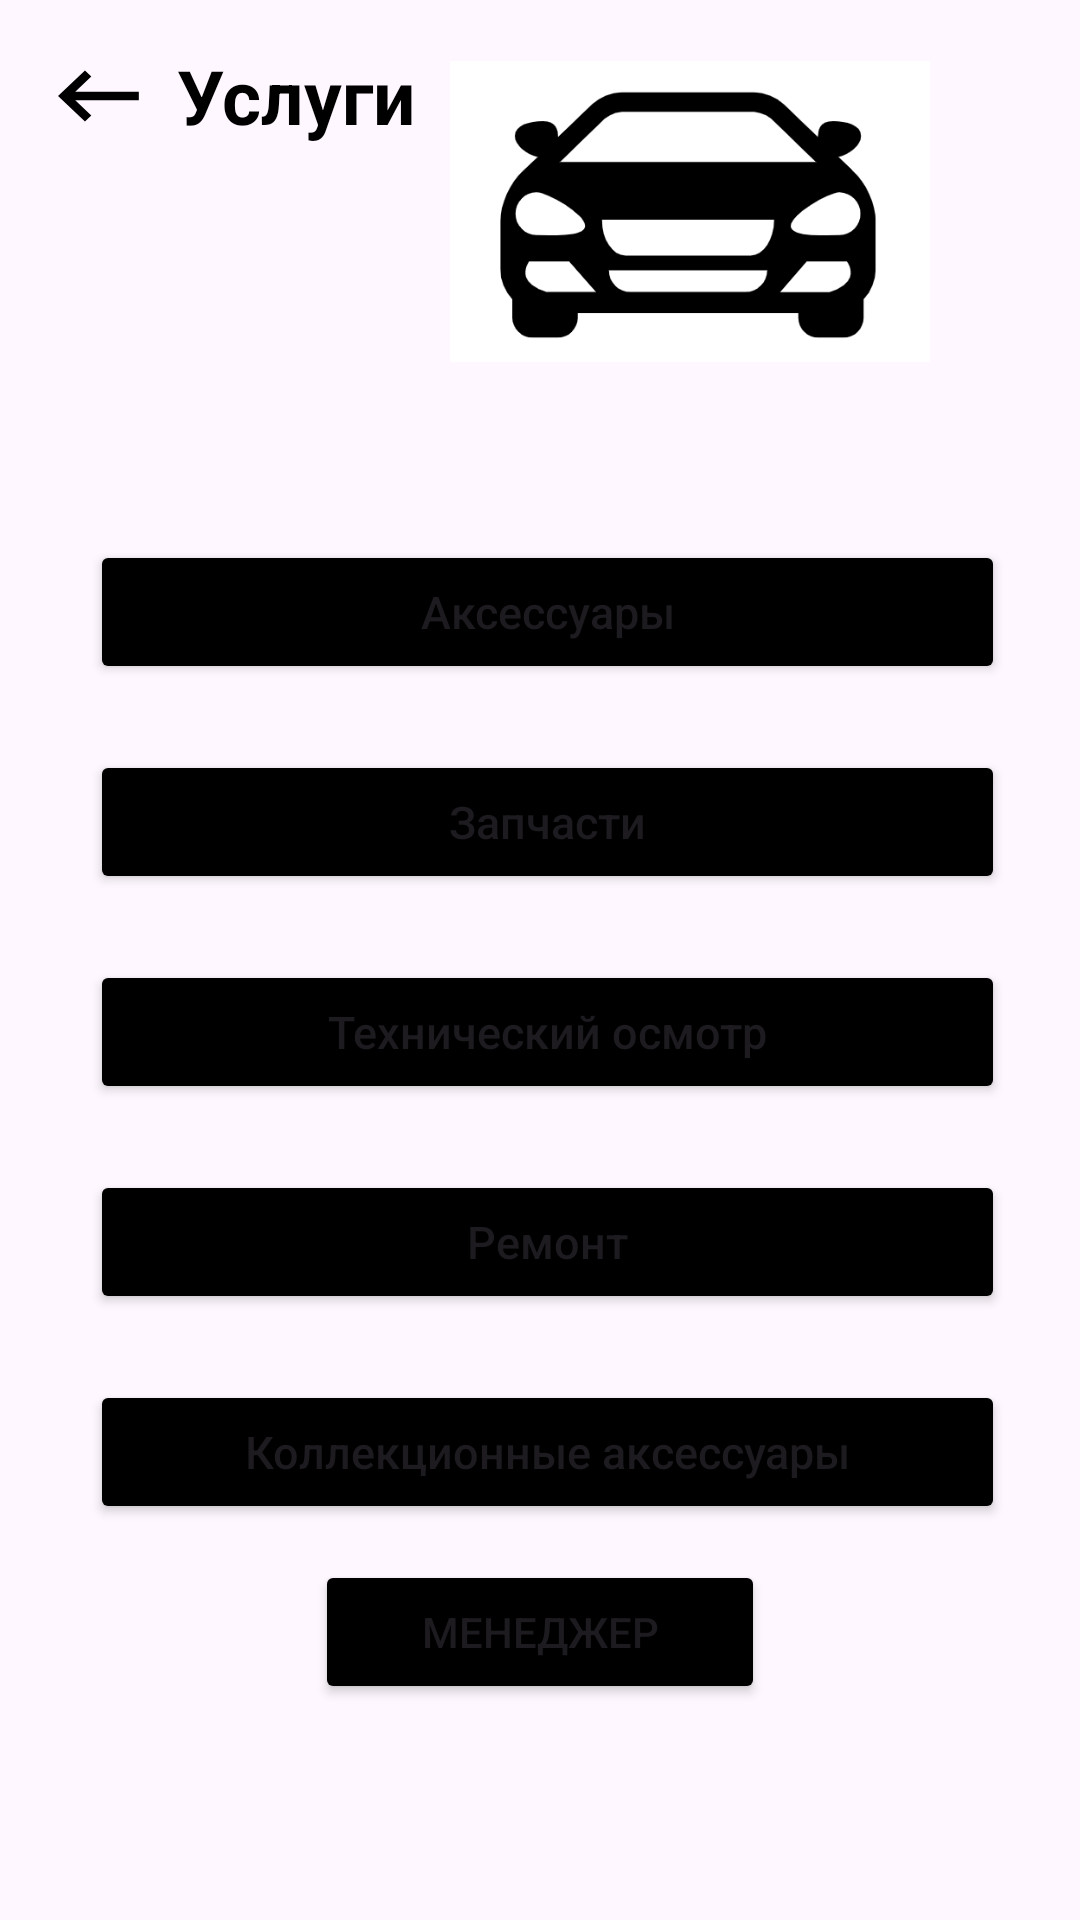

Point at icon controls on the screen. Image size 1080 x 1920, points as (x,y).
back: (98,96)
